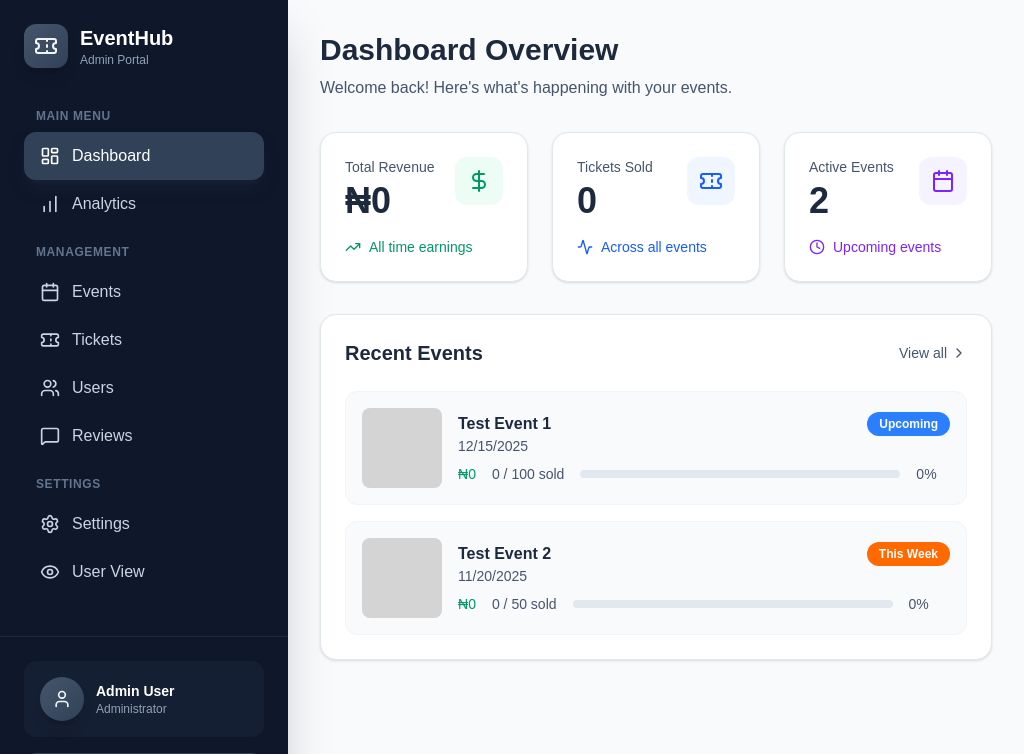
Scenario: AdminPage › Tickets View › should display empty state when no tickets exist
# Navigate to tickets view
What coordinates should you click on to do the following:
click the button "Tickets"
I would click on:
 (144, 340)
Its box is [24, 316, 264, 364].
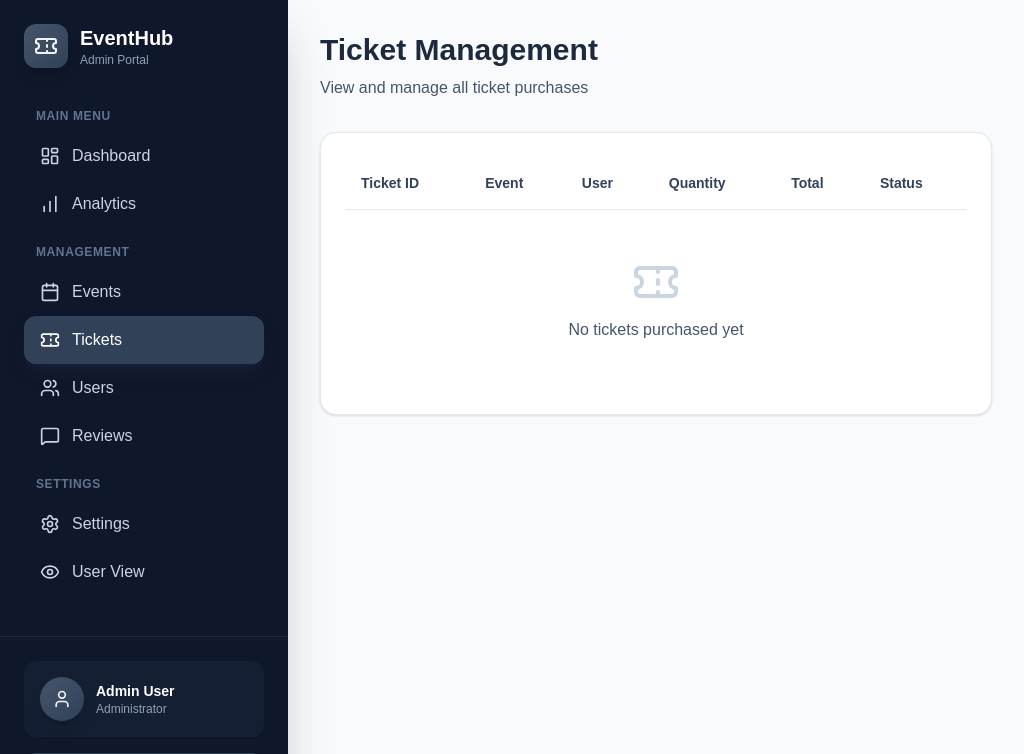
Now the text "No tickets purchased yet" is shown, box [568, 321, 744, 338]
